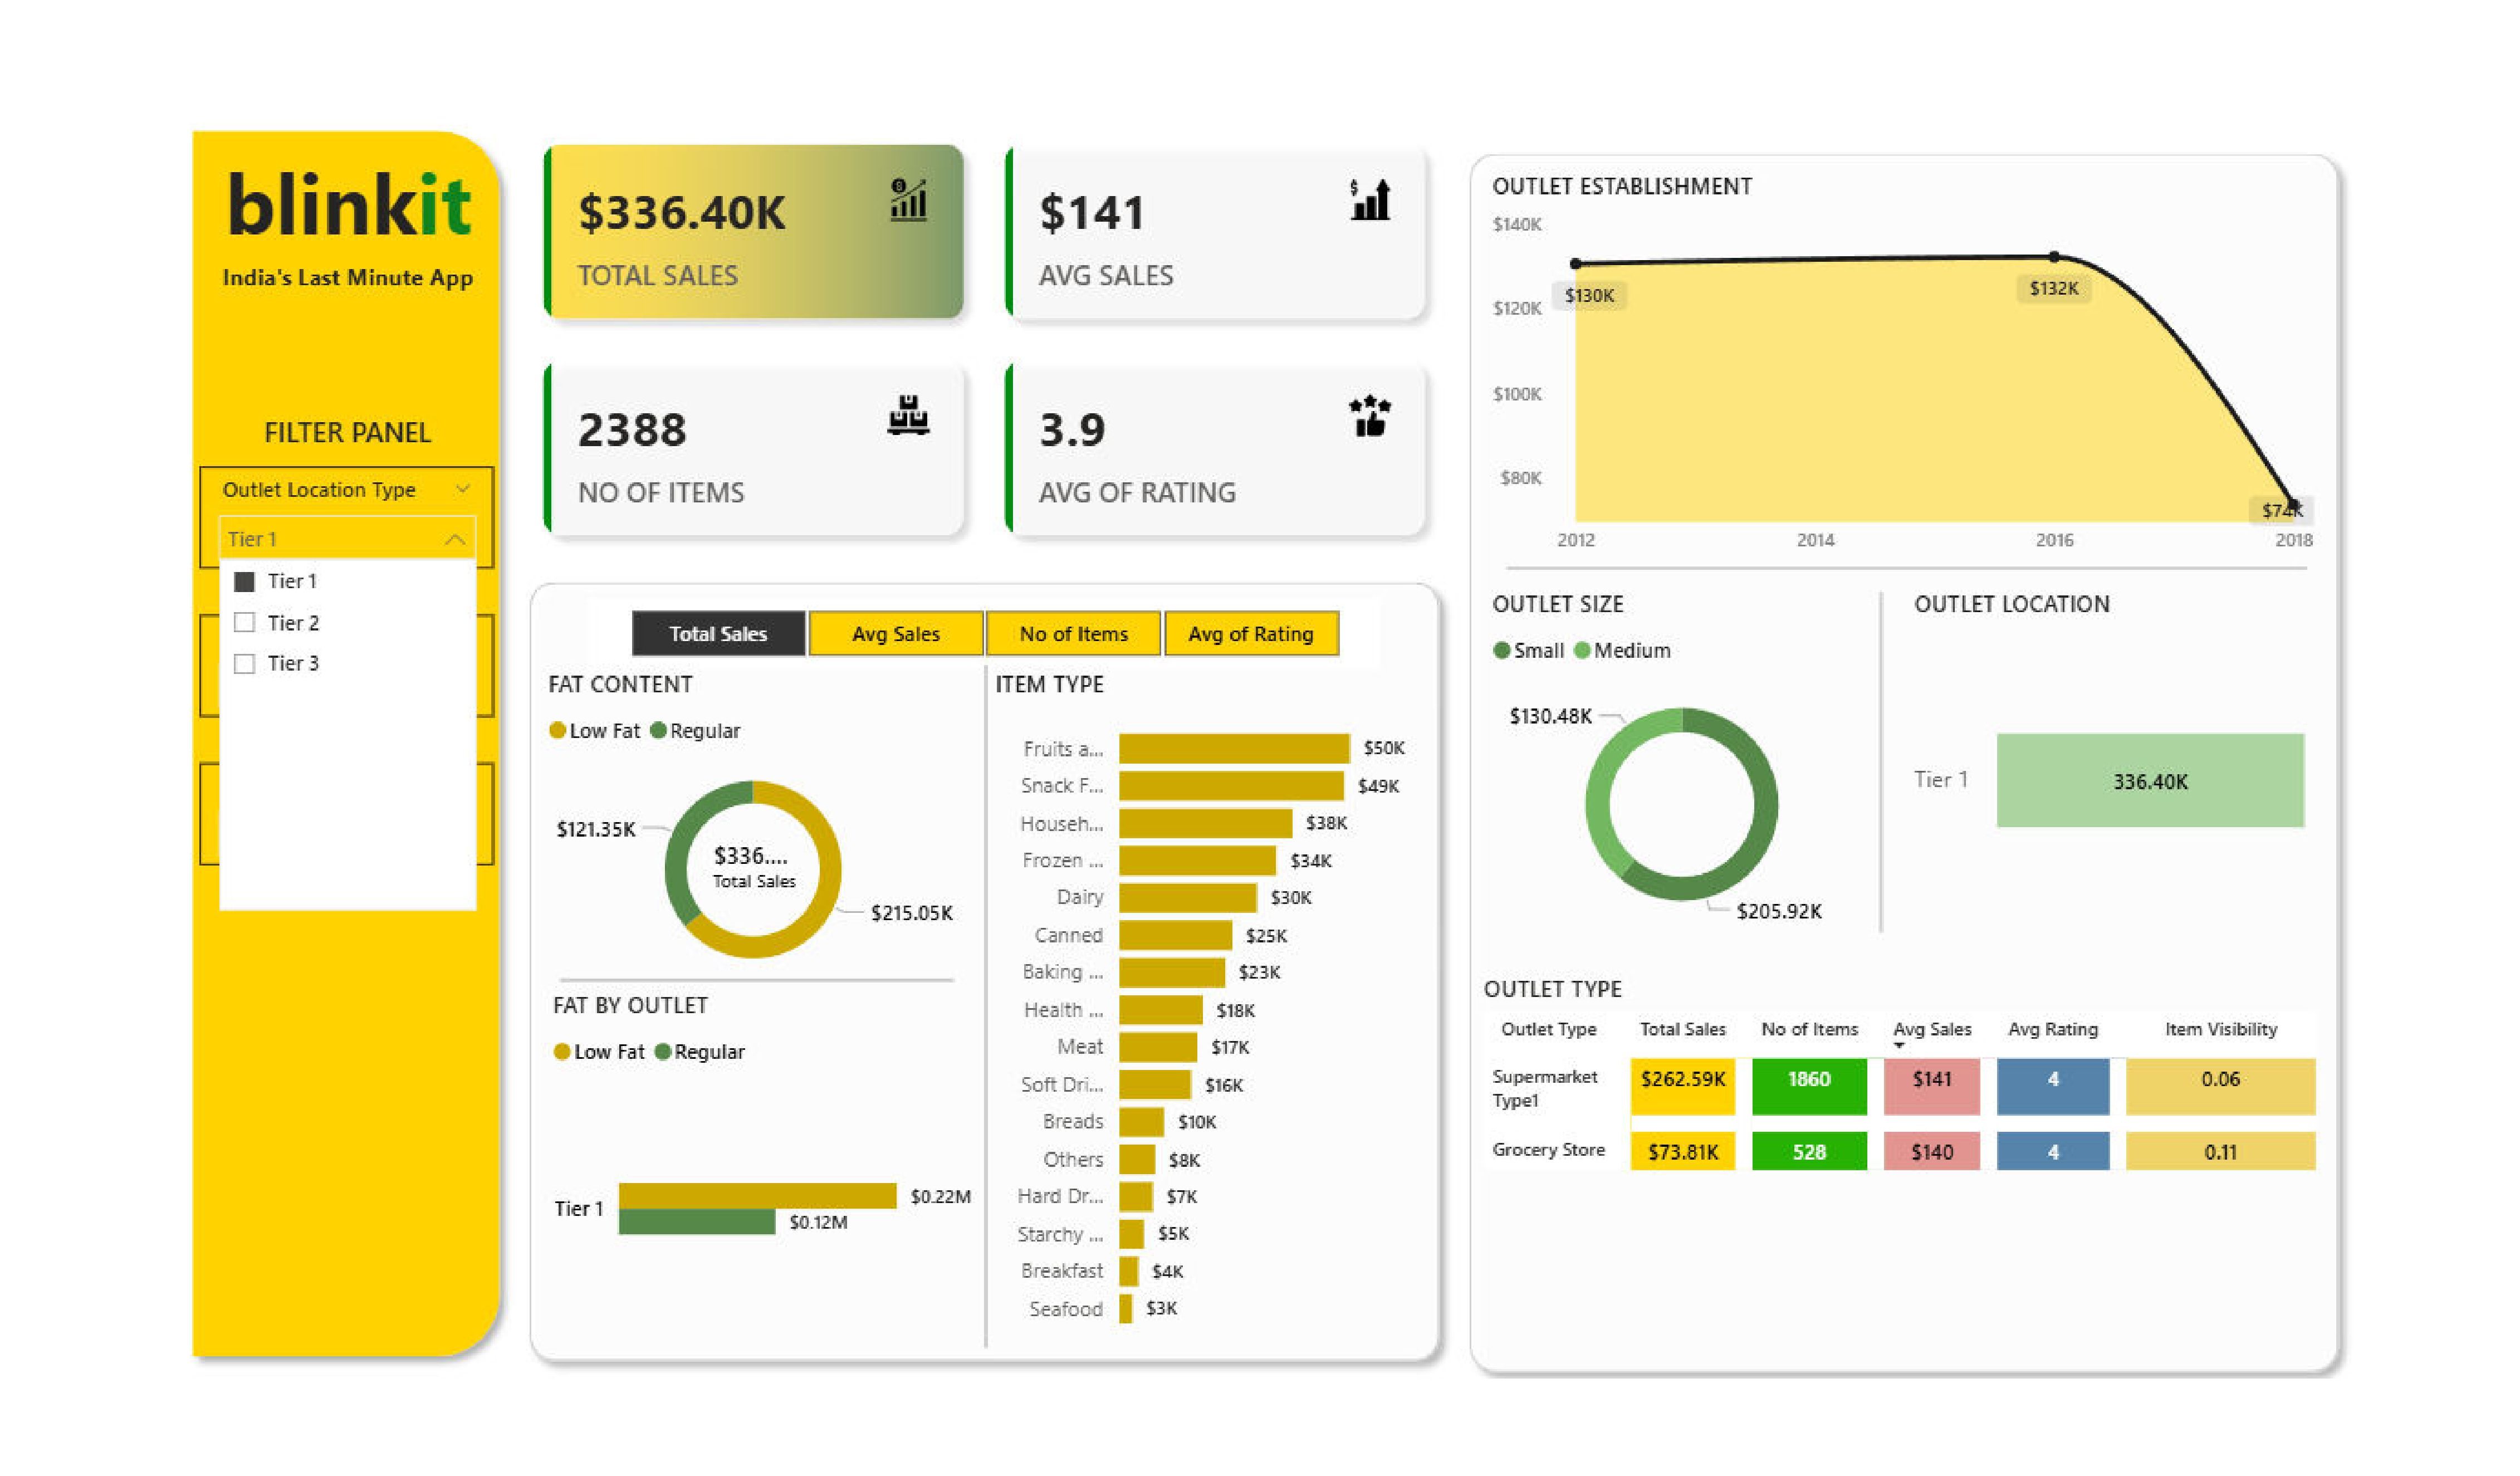

The dashboard page shown, as its layout file describes it:
{"tool":"powerbi","page":{"name":"Page 1","canvas":[1400,800],"ordinal":0},"visuals":[{"type":"shape","box":[35.7,52.9,198.6,738.6],"z":0},{"type":"textbox","box":[55.7,65.7,161.4,84.3],"z":1000},{"type":"textbox","box":[37.1,132.9,198.6,52.9],"z":2000},{"type":"cardVisual","fields":{"Data":["BlinkIT Grocery Data.Total Sales","BlinkIT Grocery Data.Avg Sales","BlinkIT Grocery Data.No of Items","BlinkIT Grocery Data.Avg of Rating"]},"box":[234.3,52.9,552.9,265.7],"z":3000},{"type":"shape","box":[234.1,318.2,552.3,475.8],"z":4000},{"type":"donutChart","title":"FAT CONTENT ","fields":{"Y":["BlinkIT Grocery Data.Total Sales"],"Category":["BlinkIT Grocery Data.Item Fat Content"]},"box":[250,377.1,251.4,192.9],"z":5000},{"type":"slicer","fields":{"Values":["Metrics.Metrics"]},"box":[277.7,336.2,465.3,40.5],"z":6000},{"type":"cardVisual","fields":{"Data":["BlinkIT Grocery Data.Total Sales"]},"box":[334.3,450,84.3,85.7],"z":7000},{"type":"clusteredBarChart","title":"FAT BY OUTLET","fields":{"Y":["BlinkIT Grocery Data.Total Sales"],"Category":["BlinkIT Grocery Data.Outlet Location Type"],"Series":["BlinkIT Grocery Data.Item Fat Content"]},"box":[251.4,565.7,260,207.1],"z":8000},{"type":"shape","box":[261.4,544.3,231.4,32.9],"z":9000},{"type":"shape","box":[432.9,375.7,157.1,401.4],"z":10000},{"type":"barChart","title":"ITEM TYPE ","fields":{"Y":["BlinkIT Grocery Data.Total Sales"],"Category":["BlinkIT Grocery Data.Item Type"]},"box":[511.4,377.1,260,400],"z":11000},{"type":"shape","box":[787.1,65.7,528.6,734.3],"z":12000},{"type":"lineChart","title":"OUTLET ESTABLISHMENT","fields":{"Y":["BlinkIT Grocery Data.Total Sales"],"Category":["BlinkIT Grocery Data.Outlet Establishment Year"]},"box":[804.3,84.3,492.9,234.3],"z":13000},{"type":"shape","box":[817.1,130,470,377.1],"z":14000},{"type":"donutChart","title":"OUTLET SIZE","fields":{"Y":["BlinkIT Grocery Data.Total Sales"],"Category":["BlinkIT Grocery Data.Outlet Size"]},"box":[804.3,330,232.9,210],"z":15000},{"type":"shape","box":[971.4,332.9,131.4,200],"z":16000},{"type":"funnel","title":"OUTLET LOCATION ","fields":{"Y":["Sum(BlinkIT Grocery Data.Sales)"],"Category":["BlinkIT Grocery Data.Outlet Location Type"]},"box":[1052.9,330,244.3,210],"z":17000},{"type":"pivotTable","title":"OUTLET TYPE","fields":{"Rows":["BlinkIT Grocery Data.Outlet Type"],"Values":["BlinkIT Grocery Data.Total Sales","BlinkIT Grocery Data.No of Items","BlinkIT Grocery Data.Avg Sales","BlinkIT Grocery Data.Avg of Rating","Avg(BlinkIT Grocery Data.Item Visibility)"]},"box":[804.3,555.7,510,217.1],"z":18000},{"type":"slicer","fields":{"Values":["BlinkIT Grocery Data.Outlet Location Type"]},"box":[50,258.6,172.9,60],"z":19000},{"type":"slicer","fields":{"Values":["BlinkIT Grocery Data.Outlet Size"]},"box":[50,345.7,172.9,60],"z":20000},{"type":"slicer","fields":{"Values":["BlinkIT Grocery Data.Item Type"]},"box":[50,432.9,172.9,60],"z":21000},{"type":"textbox","box":[38.6,222.9,195.7,35.7],"z":21001}]}

Visuals, with their boxes on the page's 1400x800 design canvas (x1, y1, x2, y2). These are canvas units, not pixel positions in the 2520x1476 screenshot, which may show the page scaled, cropped or inside an application window:
shape: <region>36, 53, 234, 792</region>
textbox: <region>56, 66, 217, 150</region>
textbox: <region>37, 133, 236, 186</region>
cardVisual - BlinkIT Grocery Data.Total Sales x BlinkIT Grocery Data.Avg Sales: <region>234, 53, 787, 319</region>
shape: <region>234, 318, 786, 794</region>
"FAT CONTENT " donutChart: <region>250, 377, 501, 570</region>
slicer - Metrics.Metrics: <region>278, 336, 743, 377</region>
cardVisual - BlinkIT Grocery Data.Total Sales: <region>334, 450, 419, 536</region>
"FAT BY OUTLET" clusteredBarChart: <region>251, 566, 511, 773</region>
shape: <region>261, 544, 493, 577</region>
shape: <region>433, 376, 590, 777</region>
"ITEM TYPE " barChart: <region>511, 377, 771, 777</region>
shape: <region>787, 66, 1316, 800</region>
"OUTLET ESTABLISHMENT" lineChart: <region>804, 84, 1297, 319</region>
shape: <region>817, 130, 1287, 507</region>
"OUTLET SIZE" donutChart: <region>804, 330, 1037, 540</region>
shape: <region>971, 333, 1103, 533</region>
"OUTLET LOCATION " funnel: <region>1053, 330, 1297, 540</region>
"OUTLET TYPE" pivotTable: <region>804, 556, 1314, 773</region>
slicer - BlinkIT Grocery Data.Outlet Location Type: <region>50, 259, 223, 319</region>
slicer - BlinkIT Grocery Data.Outlet Size: <region>50, 346, 223, 406</region>
slicer - BlinkIT Grocery Data.Item Type: <region>50, 433, 223, 493</region>
textbox: <region>39, 223, 234, 259</region>
